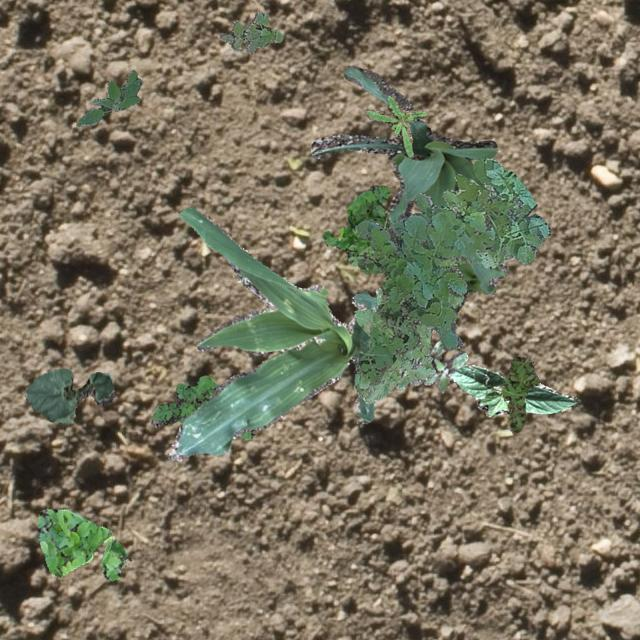crop: (168, 207, 376, 460), (309, 65, 496, 312), (398, 213, 507, 294), (448, 364, 578, 416), (23, 368, 114, 422)
weed: (353, 158, 550, 384), (353, 258, 462, 402), (36, 508, 130, 580), (150, 374, 252, 440), (322, 184, 389, 266), (394, 328, 468, 392), (364, 94, 426, 156), (76, 70, 140, 126), (500, 356, 538, 432), (218, 10, 280, 52)
